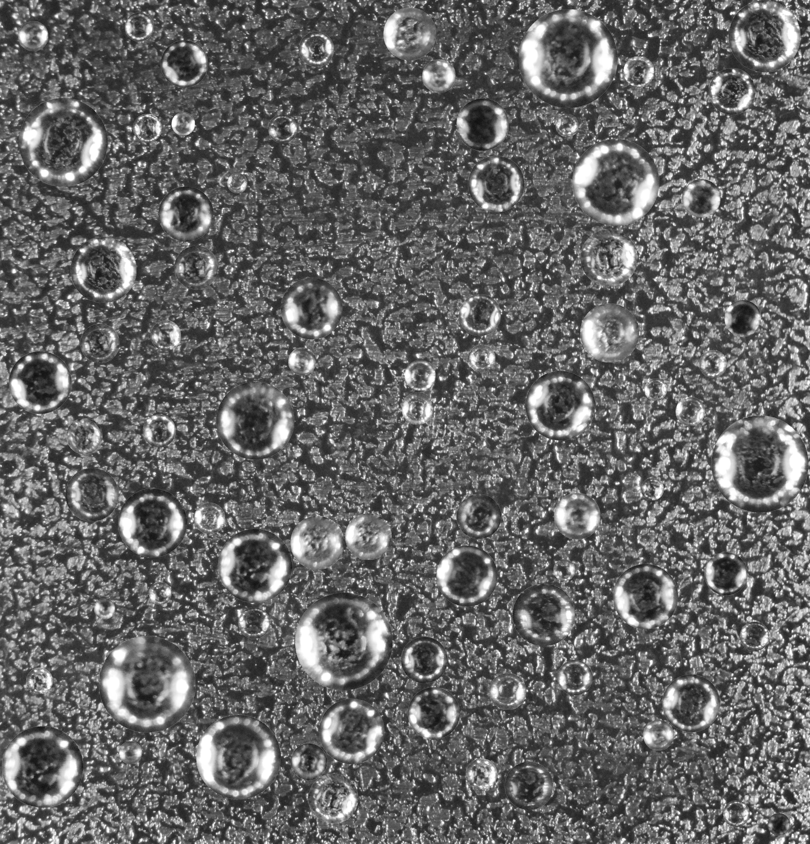Bubble: (518, 9, 617, 107), (295, 592, 392, 690), (711, 415, 808, 512), (98, 636, 195, 732), (18, 97, 107, 186), (572, 138, 659, 225), (196, 715, 280, 799), (1, 726, 83, 807), (216, 381, 294, 459), (218, 528, 292, 602), (728, 0, 800, 72), (525, 370, 595, 440), (118, 488, 186, 557), (319, 698, 384, 764), (70, 237, 136, 302), (613, 564, 678, 629), (8, 351, 71, 413), (512, 583, 574, 646), (280, 277, 342, 339), (436, 545, 497, 606), (580, 303, 639, 362), (662, 674, 720, 732), (580, 229, 637, 286), (468, 155, 524, 212), (158, 186, 213, 241), (290, 516, 344, 569), (383, 7, 436, 60), (65, 468, 118, 521), (456, 98, 508, 150), (407, 687, 459, 739), (308, 773, 358, 823), (504, 761, 553, 810), (160, 40, 207, 87), (401, 636, 447, 683), (709, 68, 755, 114), (345, 513, 391, 559), (554, 493, 600, 539), (456, 494, 501, 538), (174, 245, 217, 289), (704, 552, 747, 595), (459, 294, 500, 335), (80, 323, 119, 362), (682, 179, 720, 217), (290, 743, 327, 780), (489, 673, 526, 709), (724, 300, 761, 336), (66, 418, 102, 454), (298, 31, 333, 66), (557, 660, 592, 695), (142, 414, 175, 447), (422, 59, 455, 92), (401, 392, 433, 424), (465, 758, 497, 789), (238, 607, 269, 638), (194, 502, 225, 533), (404, 360, 435, 390), (623, 56, 654, 86), (643, 720, 673, 750), (150, 320, 180, 350), (740, 621, 769, 651), (18, 21, 48, 50), (675, 396, 704, 425), (124, 12, 153, 41), (133, 113, 161, 142), (268, 114, 296, 143), (288, 347, 316, 375), (468, 344, 495, 372), (699, 350, 726, 377), (26, 667, 52, 694), (723, 800, 749, 827), (171, 112, 194, 135), (119, 741, 141, 764), (148, 582, 171, 604), (555, 114, 578, 136), (641, 477, 663, 500), (767, 813, 790, 835), (644, 378, 666, 400), (553, 559, 575, 580), (94, 598, 115, 619), (227, 173, 247, 193)
